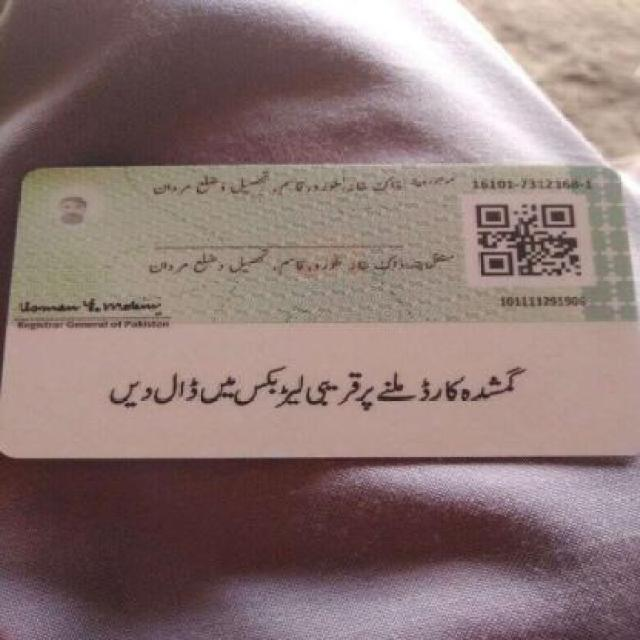Back: (6, 164, 637, 458)
